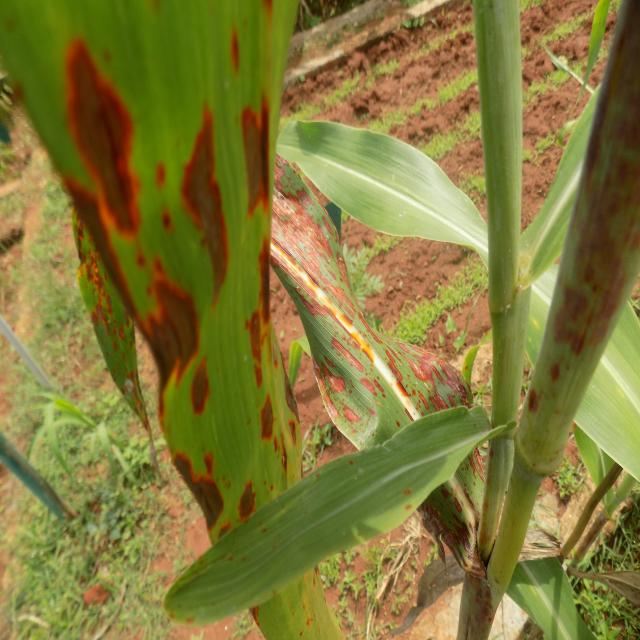millet_healthy: (163, 407, 505, 626), (276, 120, 488, 265)
millet_rust: (0, 0, 344, 640), (208, 117, 573, 570)
